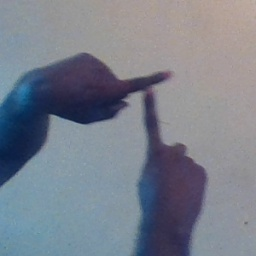T: (105, 59, 193, 168)
